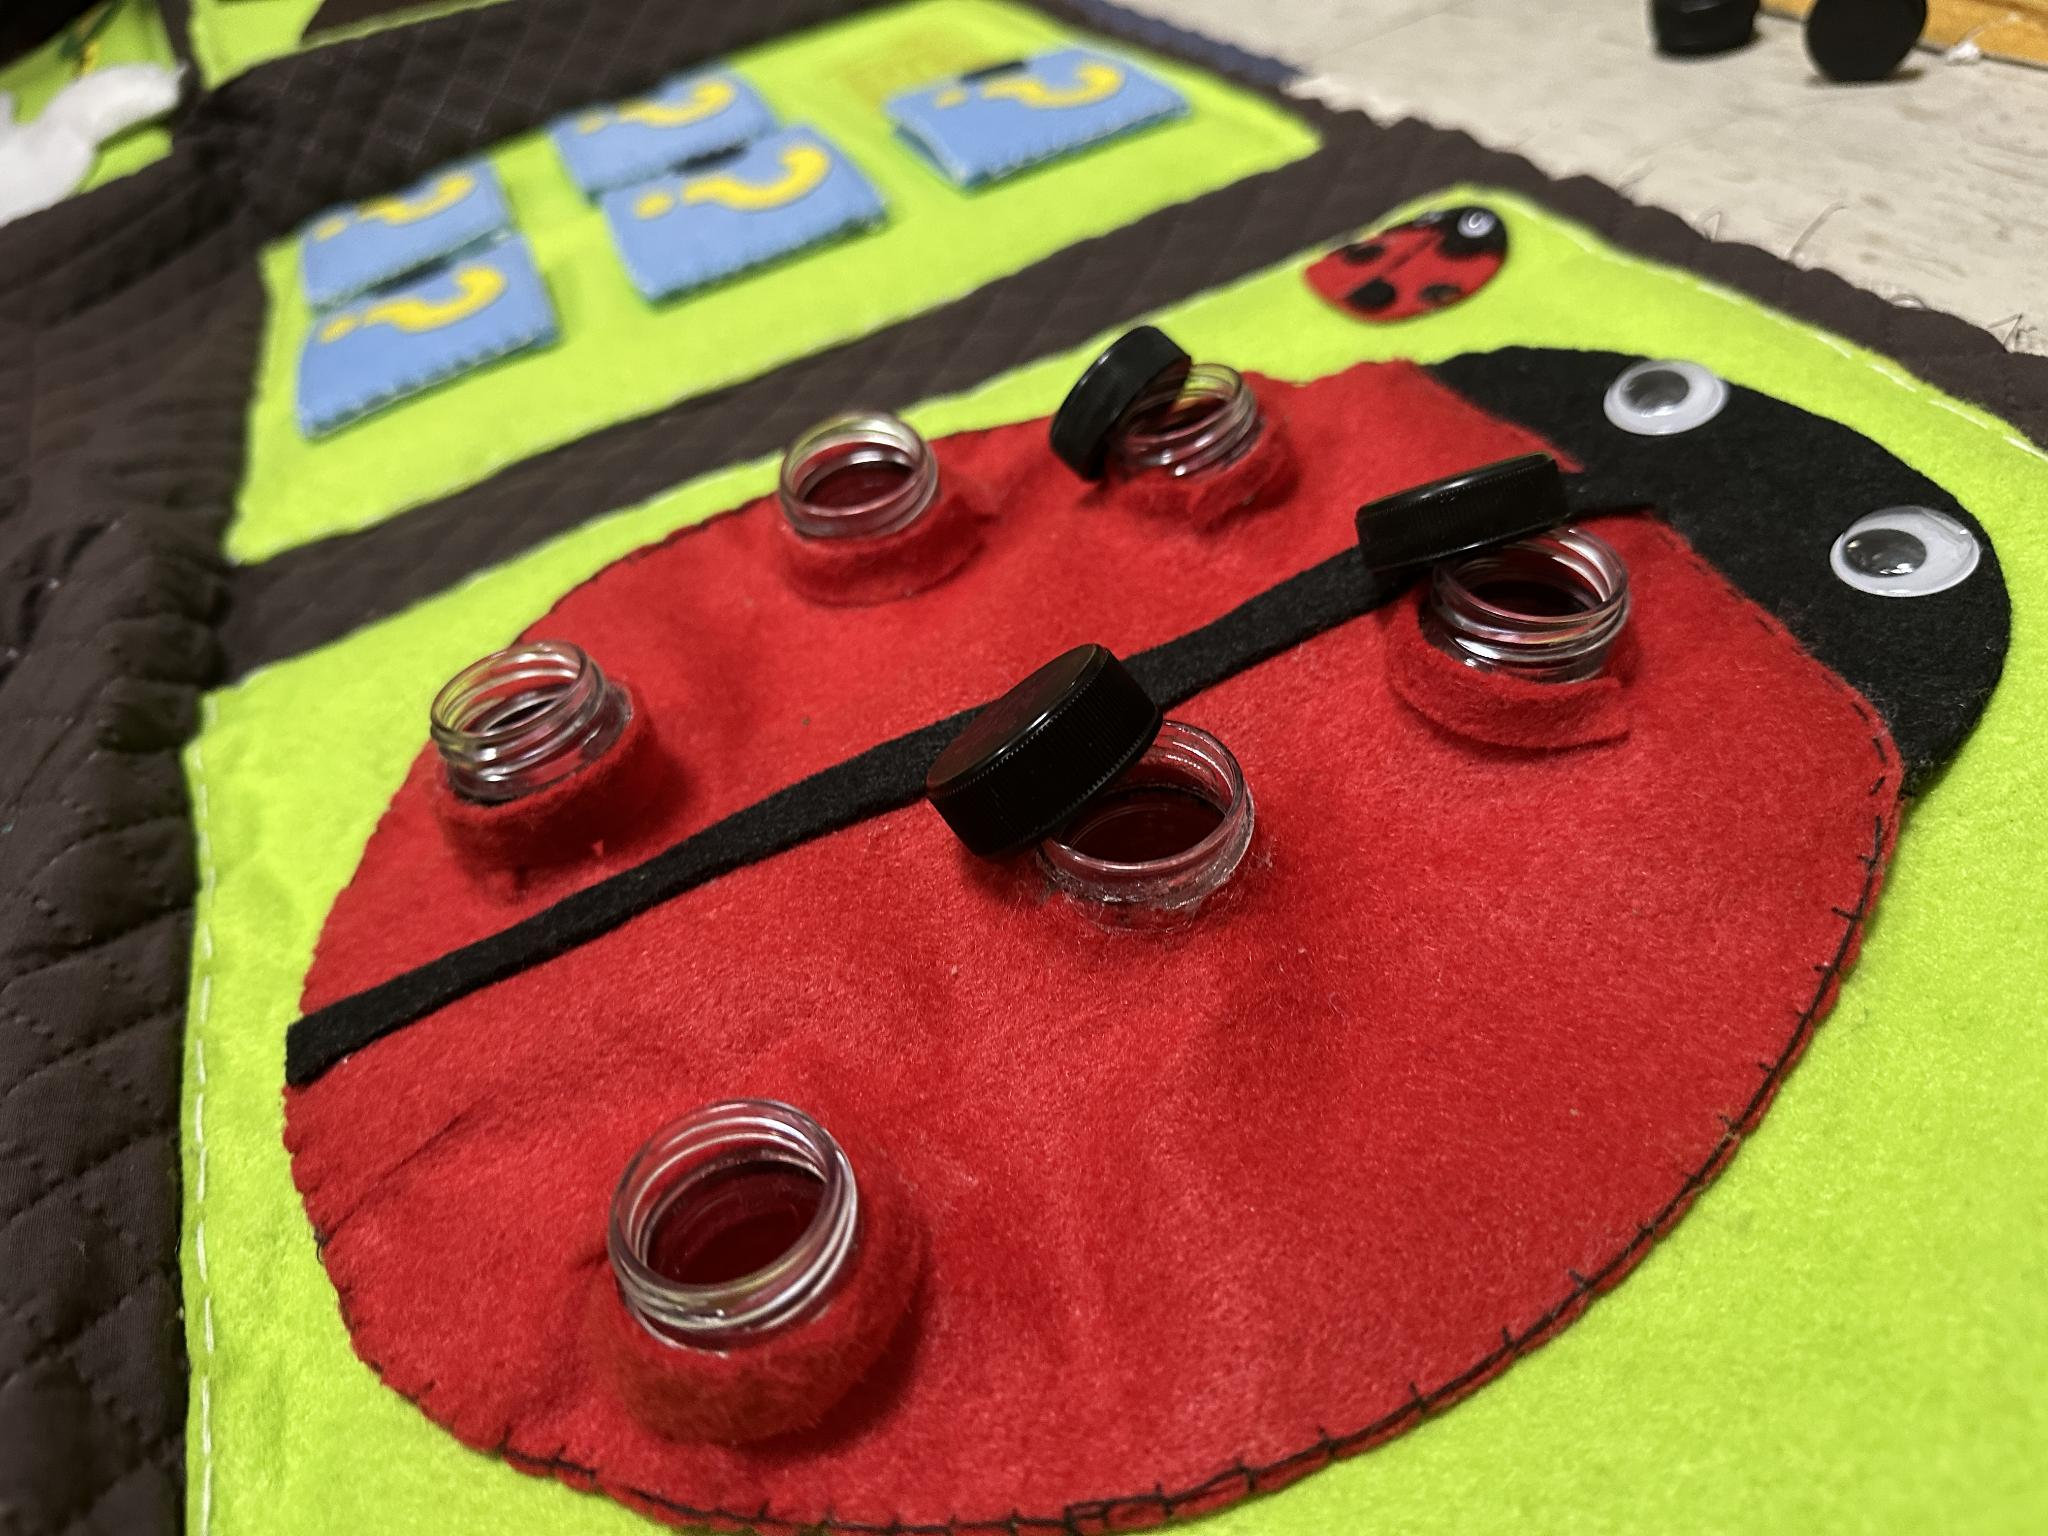cap_ng: (922, 629, 1264, 947), (1350, 445, 1658, 755), (1048, 316, 1306, 542)
